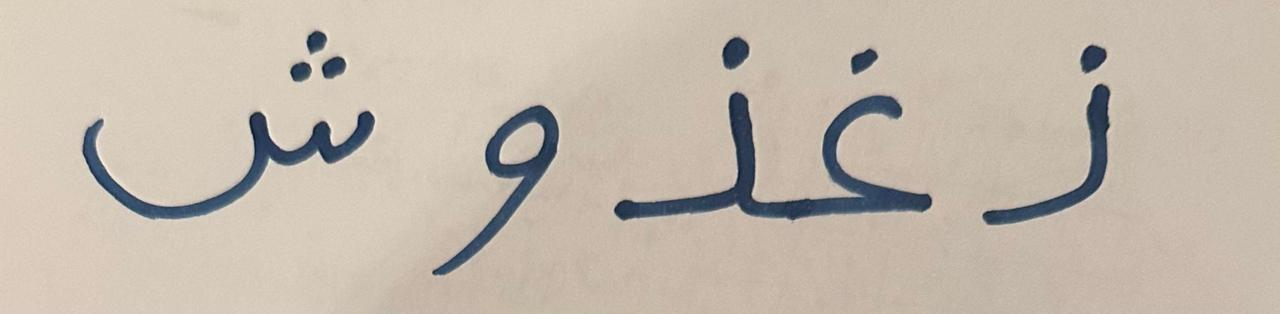ain: (968, 3, 1178, 289), (593, 7, 773, 279)
ghain: (778, 6, 965, 286)
tah: (56, 9, 397, 296)
yeh: (400, 35, 589, 297)
